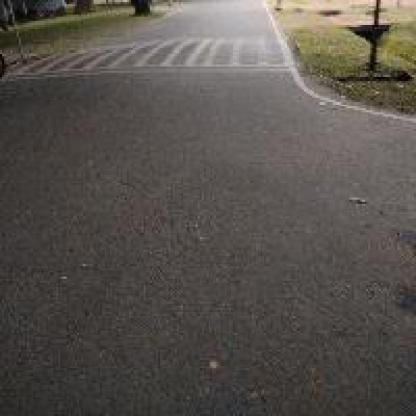Speed Bump: (0, 35, 298, 84)
